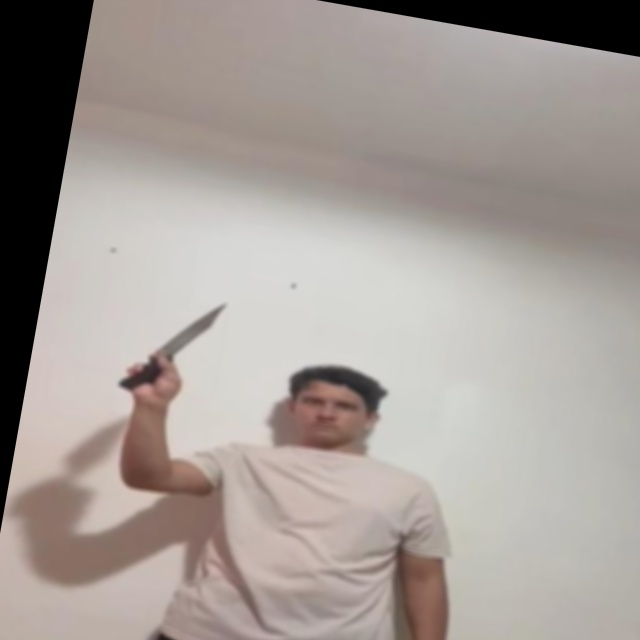Sharp-Object: (170, 296, 230, 356)
